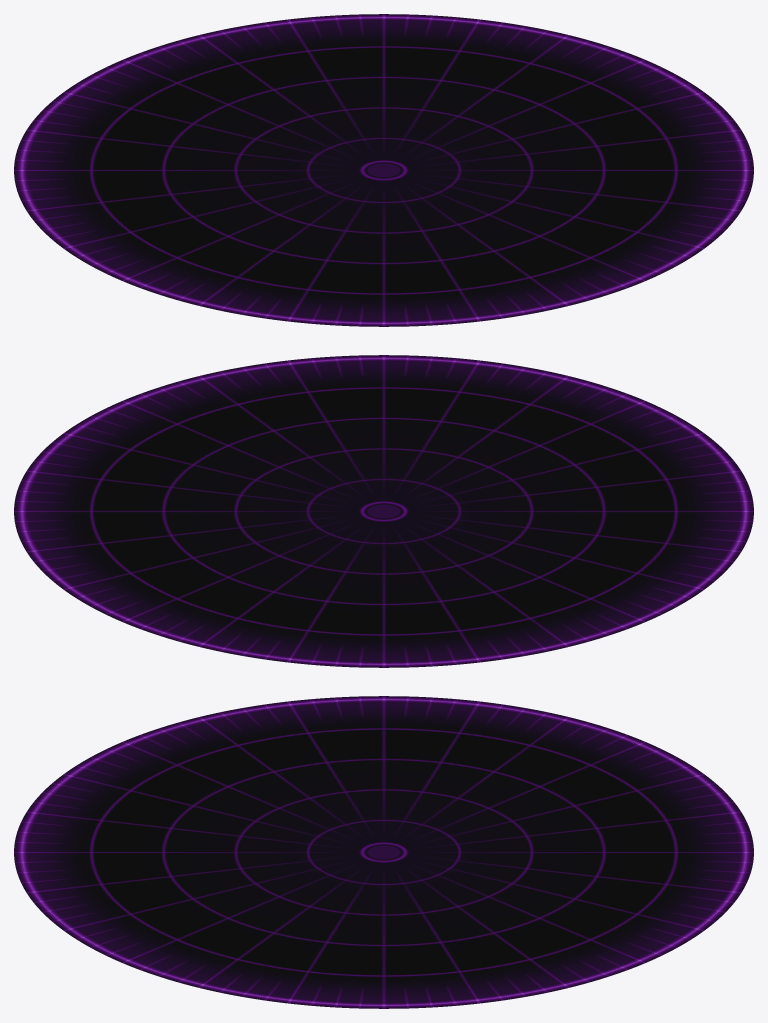
Rendered from ground.glb.
3 renders of one model, top to bottom at view 1: azimuth 30°, elevation 25°; view 2: azimuth 150°, elevation 25°; view 3: azimuth 270°, elevation 25°, orthographic.
Parts seen in each view (by area): view 1: Deck; view 2: Deck; view 3: Deck.
Part boxes in pixels (left/top/right/bottom): Deck: left=14, top=14, right=753, bottom=326; Deck: left=14, top=355, right=753, bottom=667; Deck: left=14, top=696, right=753, bottom=1008.
Size of what is drawn, in the model's own units: 24 by 0 by 24.
Materials: 1 (1 with a texture image).
